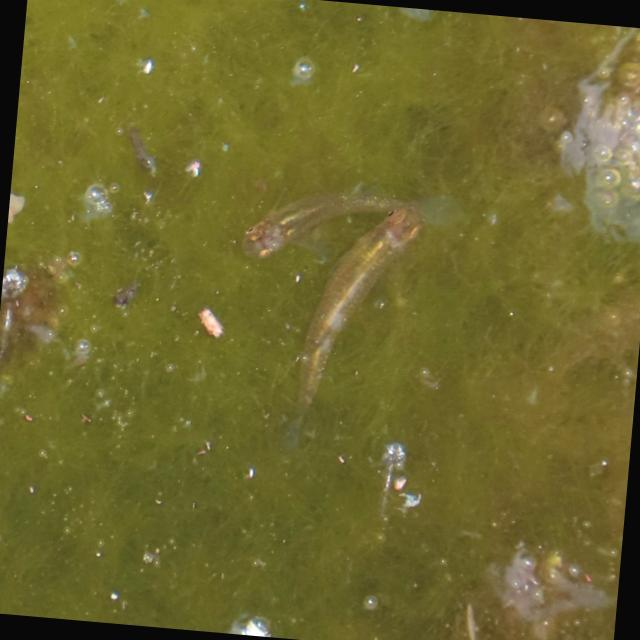Sivrisinek Baligi: (291, 196, 434, 414), (232, 176, 417, 274)
